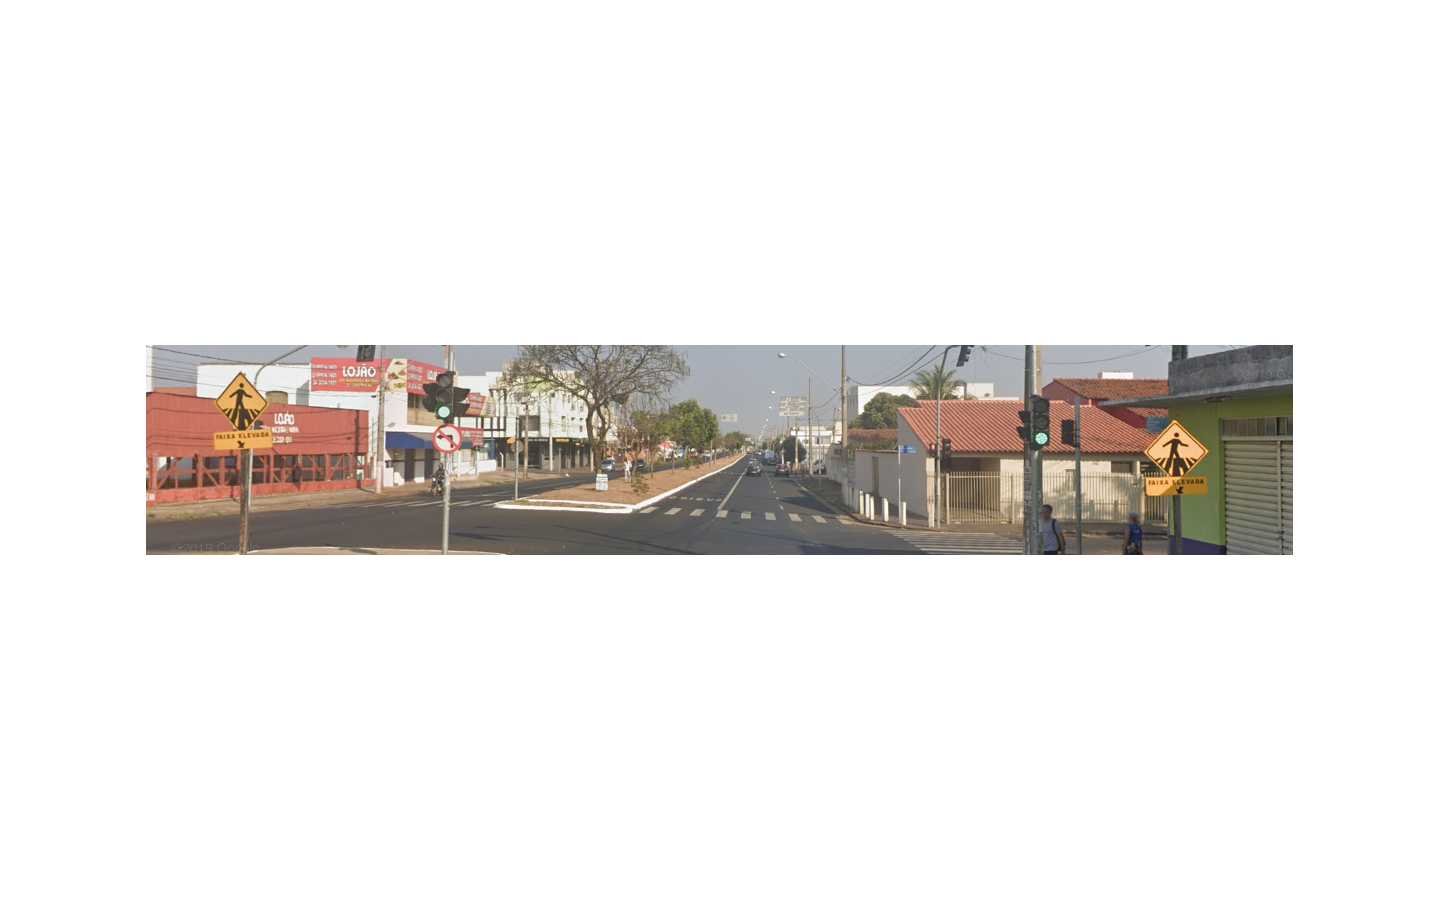telev: (1143, 418, 1210, 496), (213, 372, 271, 451)
